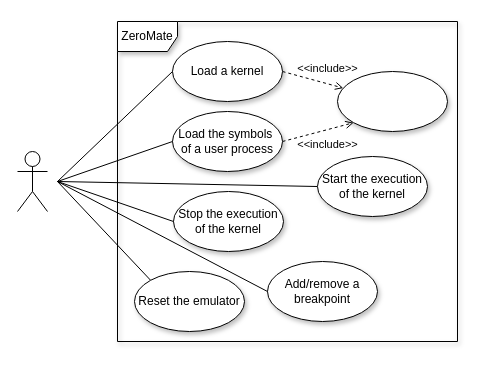
Some shapes in this 481 by 366 pixel diagram are drawn without their labels. Each missing label, with the centre of its shape:
"Load an .ELF file" goes at [393,102].
"User" goes at [32,181].
